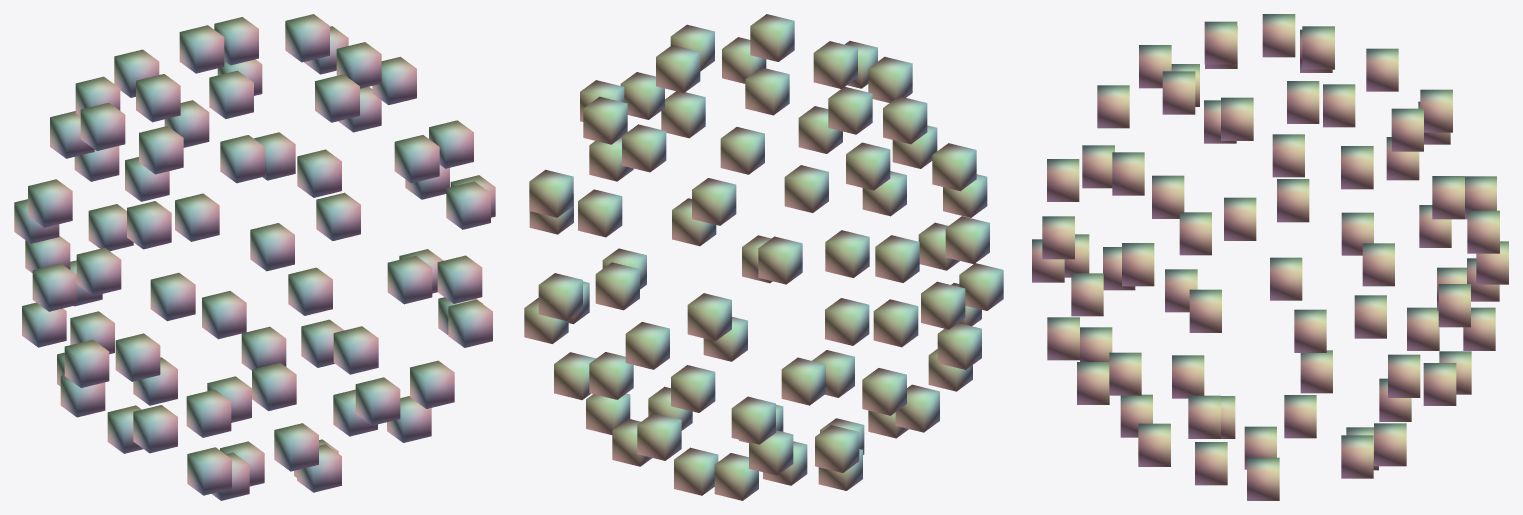
File: 3d_100_color.obj
The picture shows the model from 3 angles, left to right: view 1: azimuth 30°, elevation 25°; view 2: azimuth 150°, elevation 25°; view 3: azimuth 270°, elevation 25°; orthographic projection.
Parts seen in each view (by area): view 1: object_1; view 2: object_1; view 3: object_1.
Boxes of the visible parts, x1=… form: object_1: x1=14, y1=14, x2=495, y2=500; object_1: x1=524, y1=14, x2=1003, y2=500; object_1: x1=1032, y1=14, x2=1508, y2=500.
Bounding box in the file's own units: 212 × 210 × 214.
